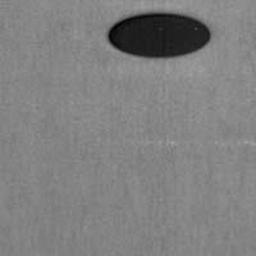Punching: (106, 13, 211, 59)
